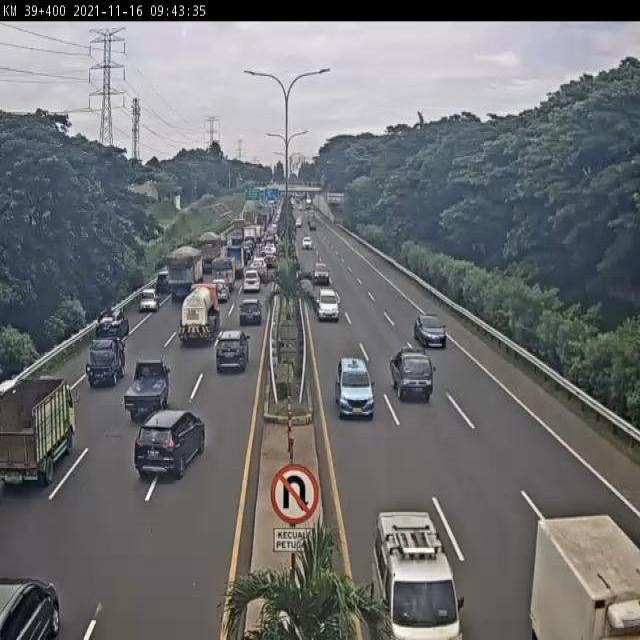car: (368, 512, 464, 640), (134, 406, 206, 478), (124, 360, 173, 421), (389, 347, 437, 405), (335, 356, 376, 420), (85, 333, 128, 387), (215, 327, 249, 377), (414, 311, 449, 349), (95, 308, 129, 341), (236, 301, 262, 332), (136, 285, 160, 315), (319, 287, 340, 320), (151, 269, 175, 295), (208, 281, 229, 308), (242, 270, 259, 294)
small truck: (0, 376, 79, 488)
truck-m-: (174, 279, 223, 349), (164, 245, 205, 307)
